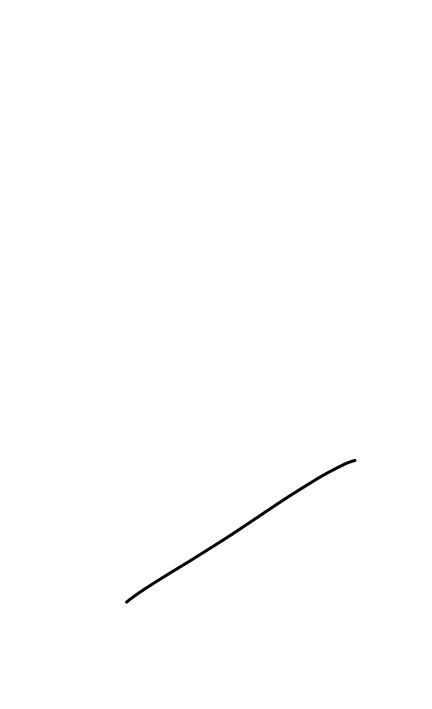Line: (120, 454, 364, 613)
